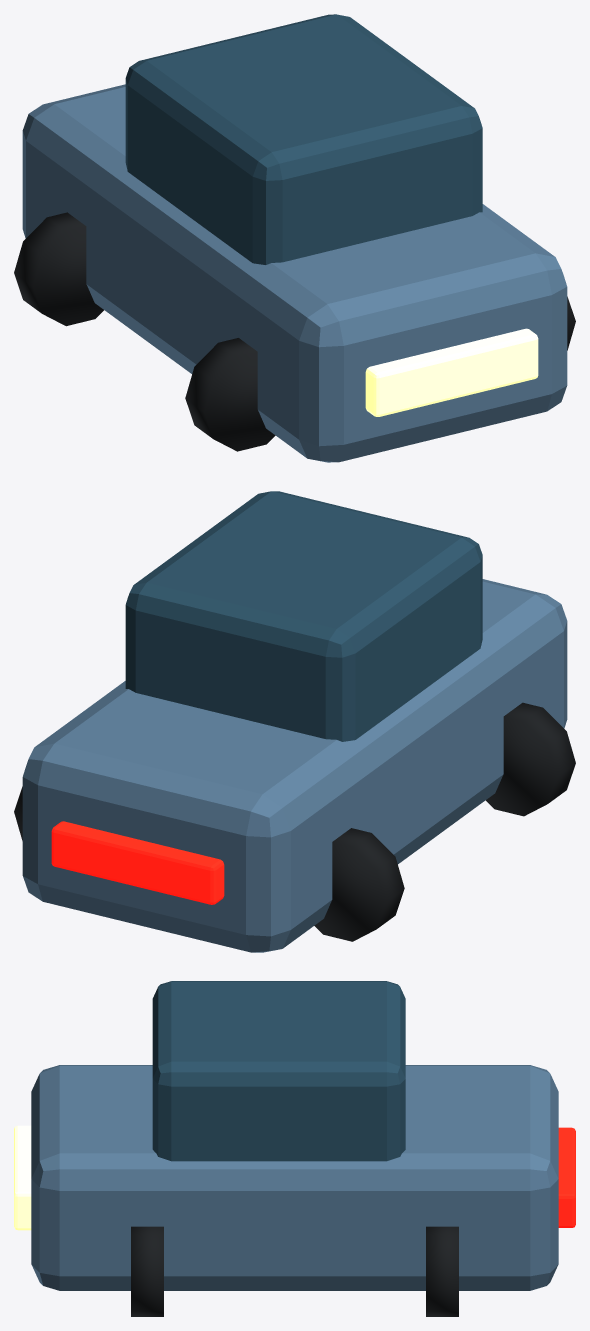
Rendered from car_compact.glb.
3 views of the same model, one above another, from view 1: azimuth 30°, elevation 25°; view 2: azimuth 150°, elevation 25°; view 3: azimuth 270°, elevation 25° (orthographic). The views are drawn at different scales.
Visible parts, largest first — view 1: vehicle_body, vehicle_cabin, headlights, vehicle_wheel, vehicle_wheel.001; view 2: vehicle_body, vehicle_cabin, taillights, vehicle_wheel.001, vehicle_wheel; view 3: vehicle_body, vehicle_cabin, vehicle_wheel.002, vehicle_wheel.003, headlights, taillights.
Boxes of the visible parts, <box> form: vehicle_body: <box>22,84,567,462</box>; vehicle_cabin: <box>125,14,482,264</box>; headlights: <box>365,328,538,416</box>; vehicle_wheel: <box>14,212,103,326</box>; vehicle_wheel.001: <box>185,338,275,451</box>; vehicle_body: <box>22,579,567,952</box>; vehicle_cabin: <box>125,491,482,741</box>; taillights: <box>51,821,224,904</box>; vehicle_wheel.001: <box>486,702,575,816</box>; vehicle_wheel: <box>314,828,404,941</box>; vehicle_body: <box>31,1065,558,1290</box>; vehicle_cabin: <box>152,981,405,1161</box>; vehicle_wheel.002: <box>426,1226,458,1316</box>; vehicle_wheel.003: <box>131,1226,163,1316</box>; headlights: <box>14,1125,31,1230</box>; taillights: <box>558,1127,575,1227</box>.
Bounding box in the file's own units: 0.3928 × 0.2707 × 0.597.
